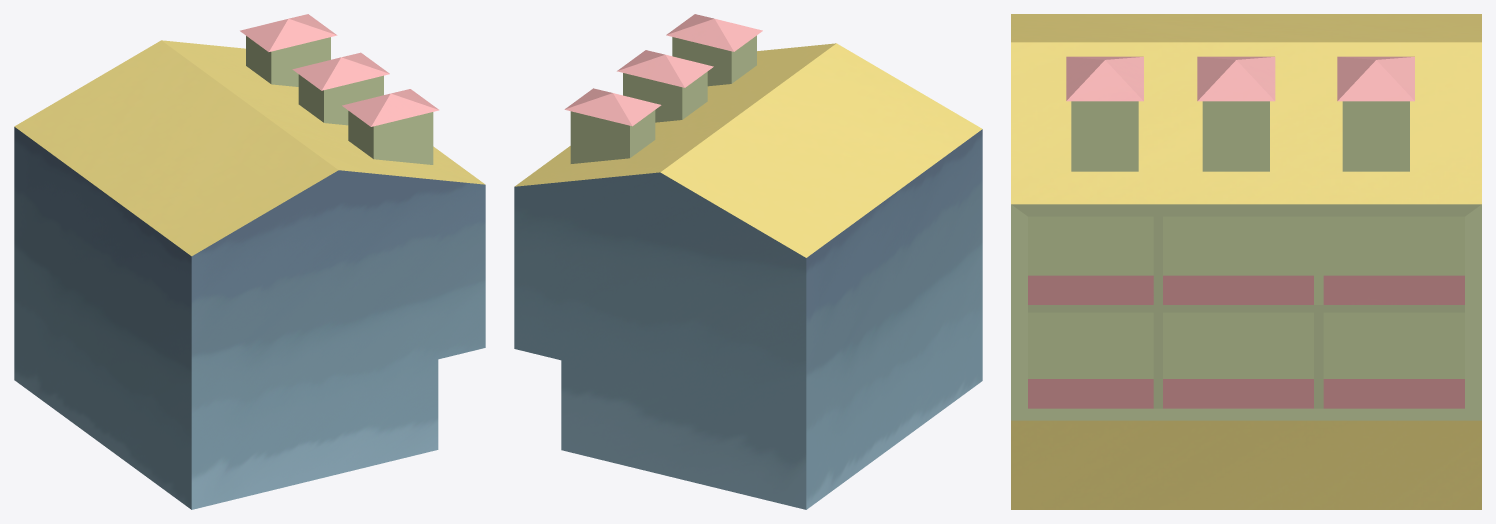
The model's file is maisons.fbx.
The picture shows the model from 3 angles, left to right: view 1: azimuth 30°, elevation 25°; view 2: azimuth 150°, elevation 25°; view 3: azimuth 270°, elevation 25°; orthographic projection. The views are drawn at different scales.
Visible parts, largest first — view 1: maisons; view 2: maisons; view 3: maisons.
Part boxes in pixels (x1,y1,x2,y2): maisons: [14, 14, 485, 509]; maisons: [514, 14, 982, 509]; maisons: [1011, 14, 1481, 509].
Size of the model in its own units: 335 by 363 by 350.
